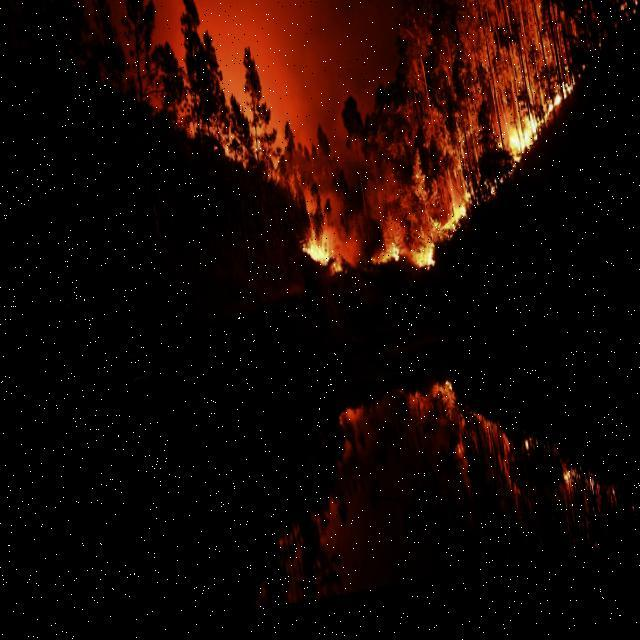Fire: (285, 202, 468, 307), (468, 75, 590, 192)
